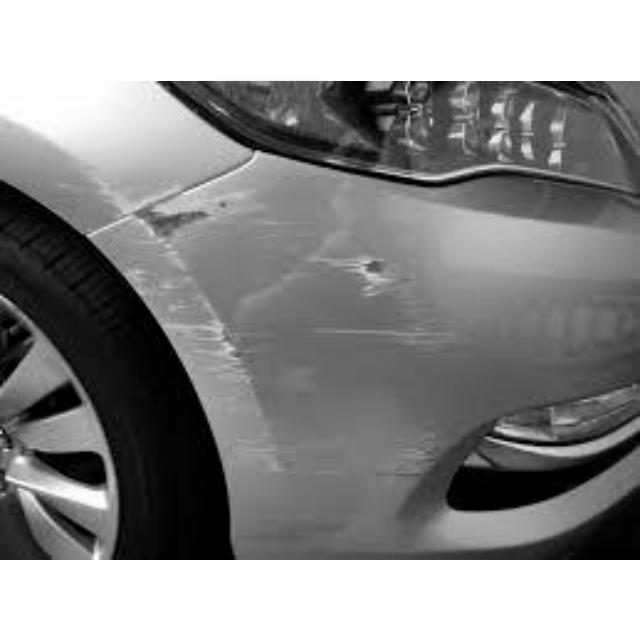front-bumper-dent: (89, 142, 637, 557)
